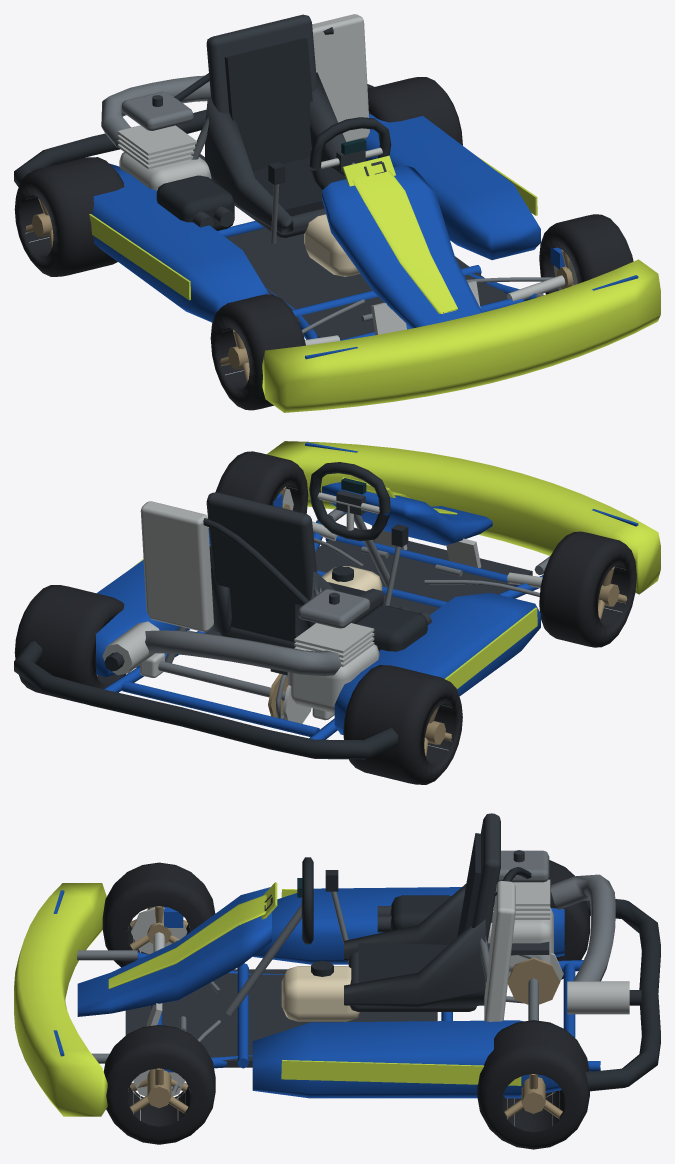
The model's file is oobi-lod.glb.
The picture shows the model from 3 angles, top to bottom: view 1: azimuth 30°, elevation 25°; view 2: azimuth 150°, elevation 25°; view 3: azimuth 270°, elevation 25°; orthographic projection.
Visible parts, largest first — view 1: Livery ivory (×3), paint, Slick vulcanised rubber (×4), Satin composite, Seat fabric, Brushed alloy (×2), Moulded bumper polymer (×2), Steel fasteners, Fuel reservoir, Magnesium wheel centres (×2); view 2: Slick vulcanised rubber (×4), paint, Satin composite (×2), Livery ivory (×2), Brushed alloy (×3), Moulded bumper polymer (×2), Steel fasteners, Magnesium wheel centres (×2), Fuel reservoir; view 3: paint, Slick vulcanised rubber (×4), Livery ivory (×2), Satin composite, Brushed alloy (×3), Steel fasteners (×2), Moulded bumper polymer (×2), Magnesium wheel centres (×4), Seat fabric, Fuel reservoir.
Boxes of the visible parts, bbox=[...] form: Livery ivory (×3): bbox=[89, 154, 660, 412]; paint: bbox=[92, 113, 540, 340]; Slick vulcanised rubber (×4): bbox=[14, 77, 633, 410]; Satin composite: bbox=[152, 14, 507, 339]; Seat fabric: bbox=[224, 38, 345, 216]; Brushed alloy (×2): bbox=[117, 14, 565, 345]; Moulded bumper polymer (×2): bbox=[14, 27, 391, 230]; Steel fasteners: bbox=[101, 75, 553, 333]; Fuel reservoir: bbox=[304, 214, 360, 276]; Magnesium wheel centres (×2): bbox=[25, 198, 249, 383]; Slick vulcanised rubber (×4): bbox=[14, 451, 636, 784]; paint: bbox=[95, 482, 543, 739]; Satin composite (×2): bbox=[204, 490, 532, 675]; Livery ivory (×2): bbox=[131, 441, 660, 688]; Brushed alloy (×3): bbox=[102, 492, 542, 723]; Moulded bumper polymer (×2): bbox=[14, 462, 427, 759]; Steel fasteners: bbox=[139, 514, 539, 719]; Magnesium wheel centres (×2): bbox=[424, 567, 627, 756]; Fuel reservoir: bbox=[321, 566, 382, 591]; paint: bbox=[77, 887, 600, 1098]; Slick vulcanised rubber (×4): bbox=[102, 860, 589, 1149]; Livery ivory (×2): bbox=[14, 883, 521, 1116]; Satin composite: bbox=[125, 813, 549, 1067]; Brushed alloy (×3): bbox=[131, 879, 629, 1026]; Steel fasteners (×2): bbox=[77, 850, 615, 1092]; Moulded bumper polymer (×2): bbox=[302, 857, 660, 1091]; Magnesium wheel centres (×4): bbox=[130, 906, 562, 1118]; Seat fabric: bbox=[358, 833, 480, 983]; Fuel reservoir: bbox=[281, 966, 360, 1021].
Size of the model in its own units: 1.96 by 1.01 by 2.7.
